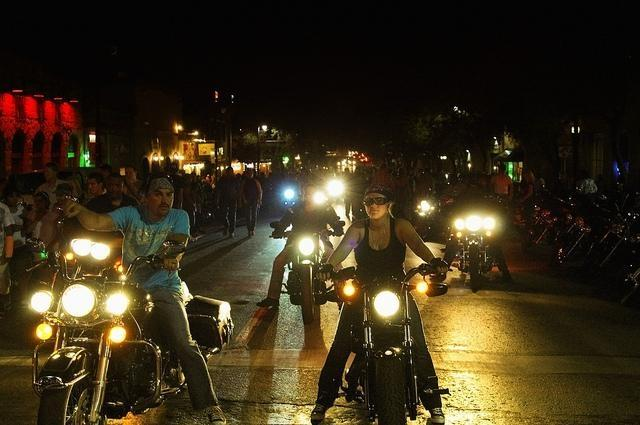motorcycle: (34, 206, 234, 420), (330, 264, 434, 420), (286, 224, 348, 327), (554, 196, 638, 268), (540, 192, 618, 256), (582, 193, 640, 272), (450, 214, 501, 282), (523, 194, 582, 252), (412, 195, 454, 243), (618, 238, 640, 306), (508, 204, 538, 230)
